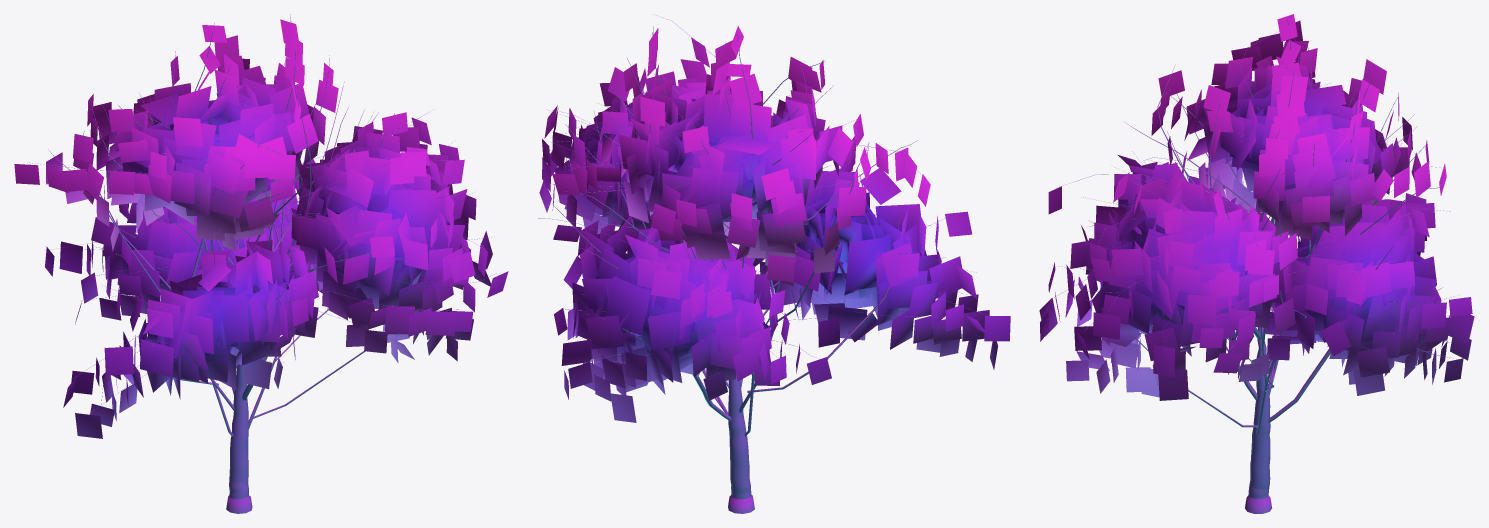
Rendered from tree_birch_s12_a30.fbx.
3 renders of one model, left to right at view 1: azimuth 30°, elevation 25°; view 2: azimuth 150°, elevation 25°; view 3: azimuth 270°, elevation 25°, orthographic. The views are drawn at different scales.
Visible parts, largest first — view 1: tree_birch_s12_a30_leaves, tree_birch_s12_a30_branches; view 2: tree_birch_s12_a30_leaves, tree_birch_s12_a30_branches; view 3: tree_birch_s12_a30_leaves, tree_birch_s12_a30_branches.
Part boxes in pixels (bbox=[...]): tree_birch_s12_a30_leaves: bbox=[14, 19, 508, 438]; tree_birch_s12_a30_branches: bbox=[29, 14, 496, 513]; tree_birch_s12_a30_leaves: bbox=[539, 26, 1010, 422]; tree_birch_s12_a30_branches: bbox=[538, 15, 994, 513]; tree_birch_s12_a30_leaves: bbox=[1039, 14, 1474, 400]; tree_birch_s12_a30_branches: bbox=[1048, 17, 1453, 513].
Size of the model in its own units: 10.76 by 11.35 by 9.18.
